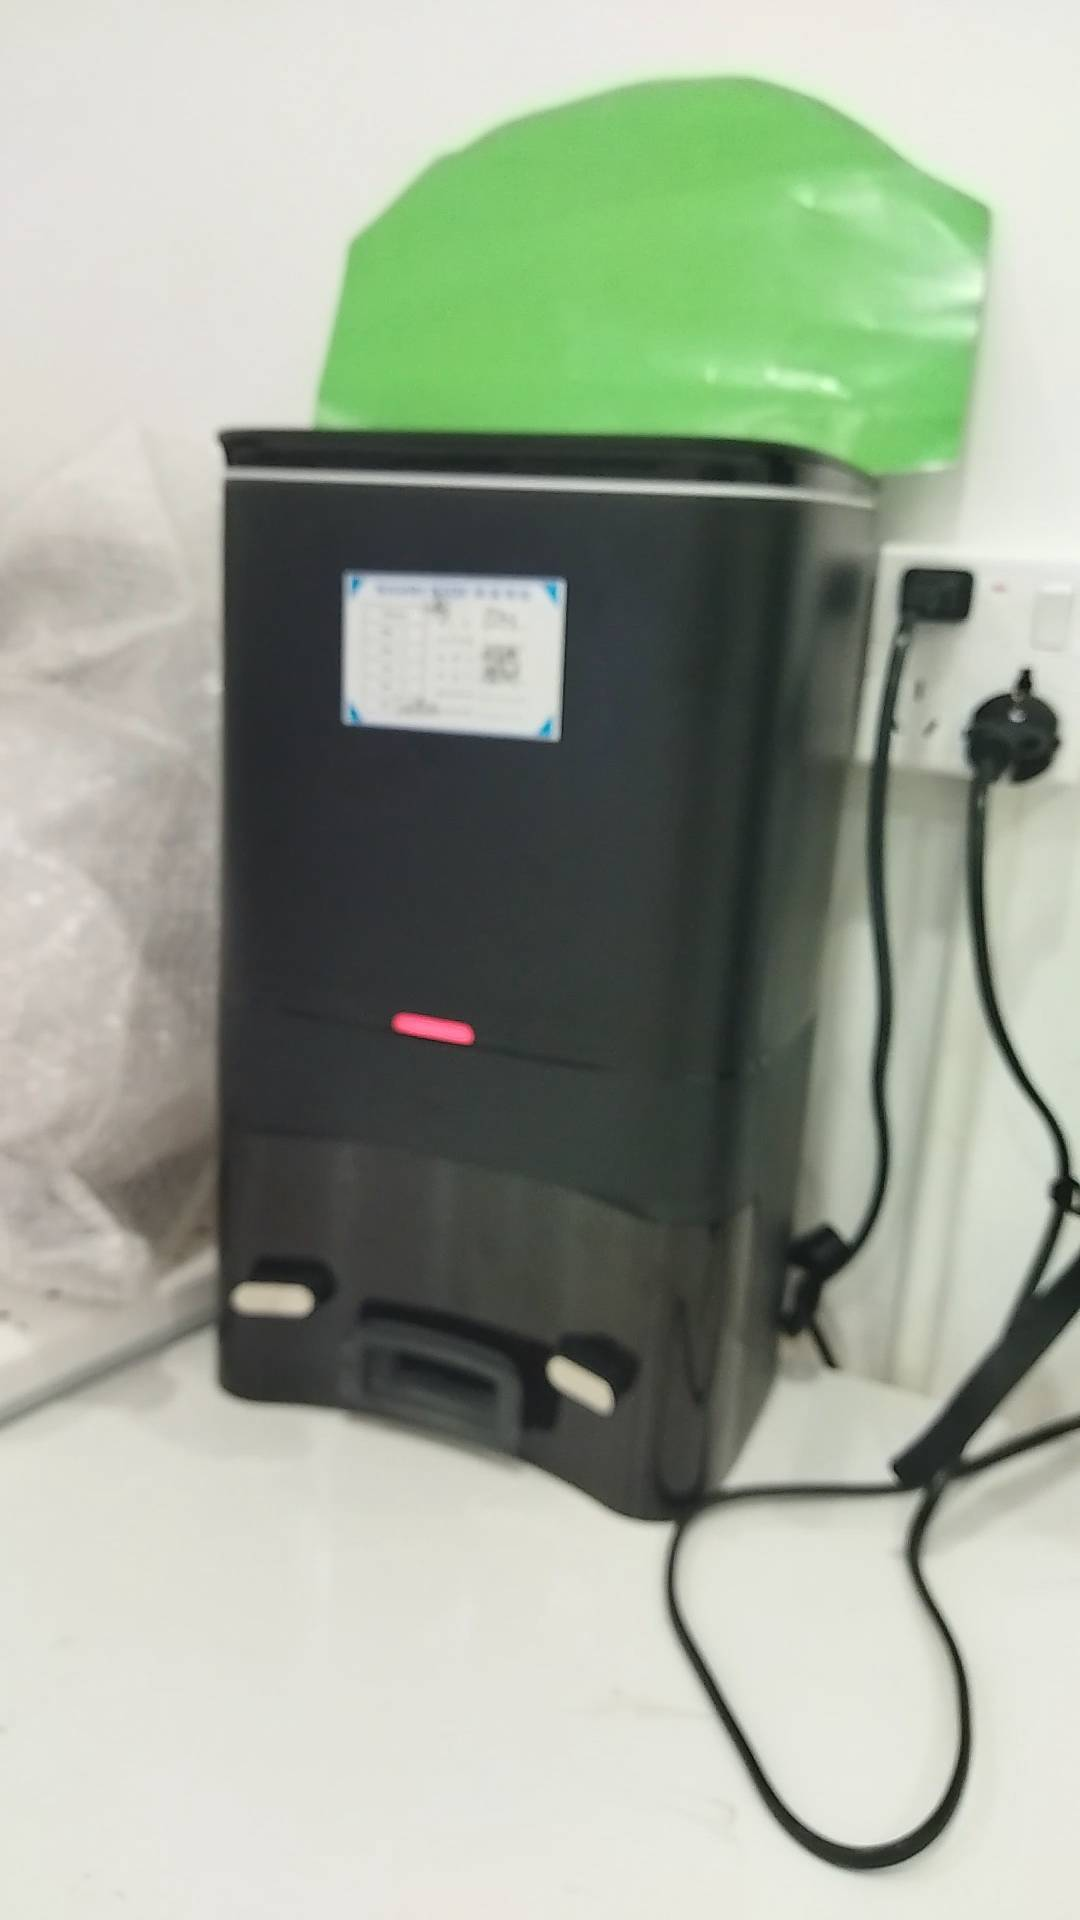dust collecting barrel: (207, 426, 884, 1524)
